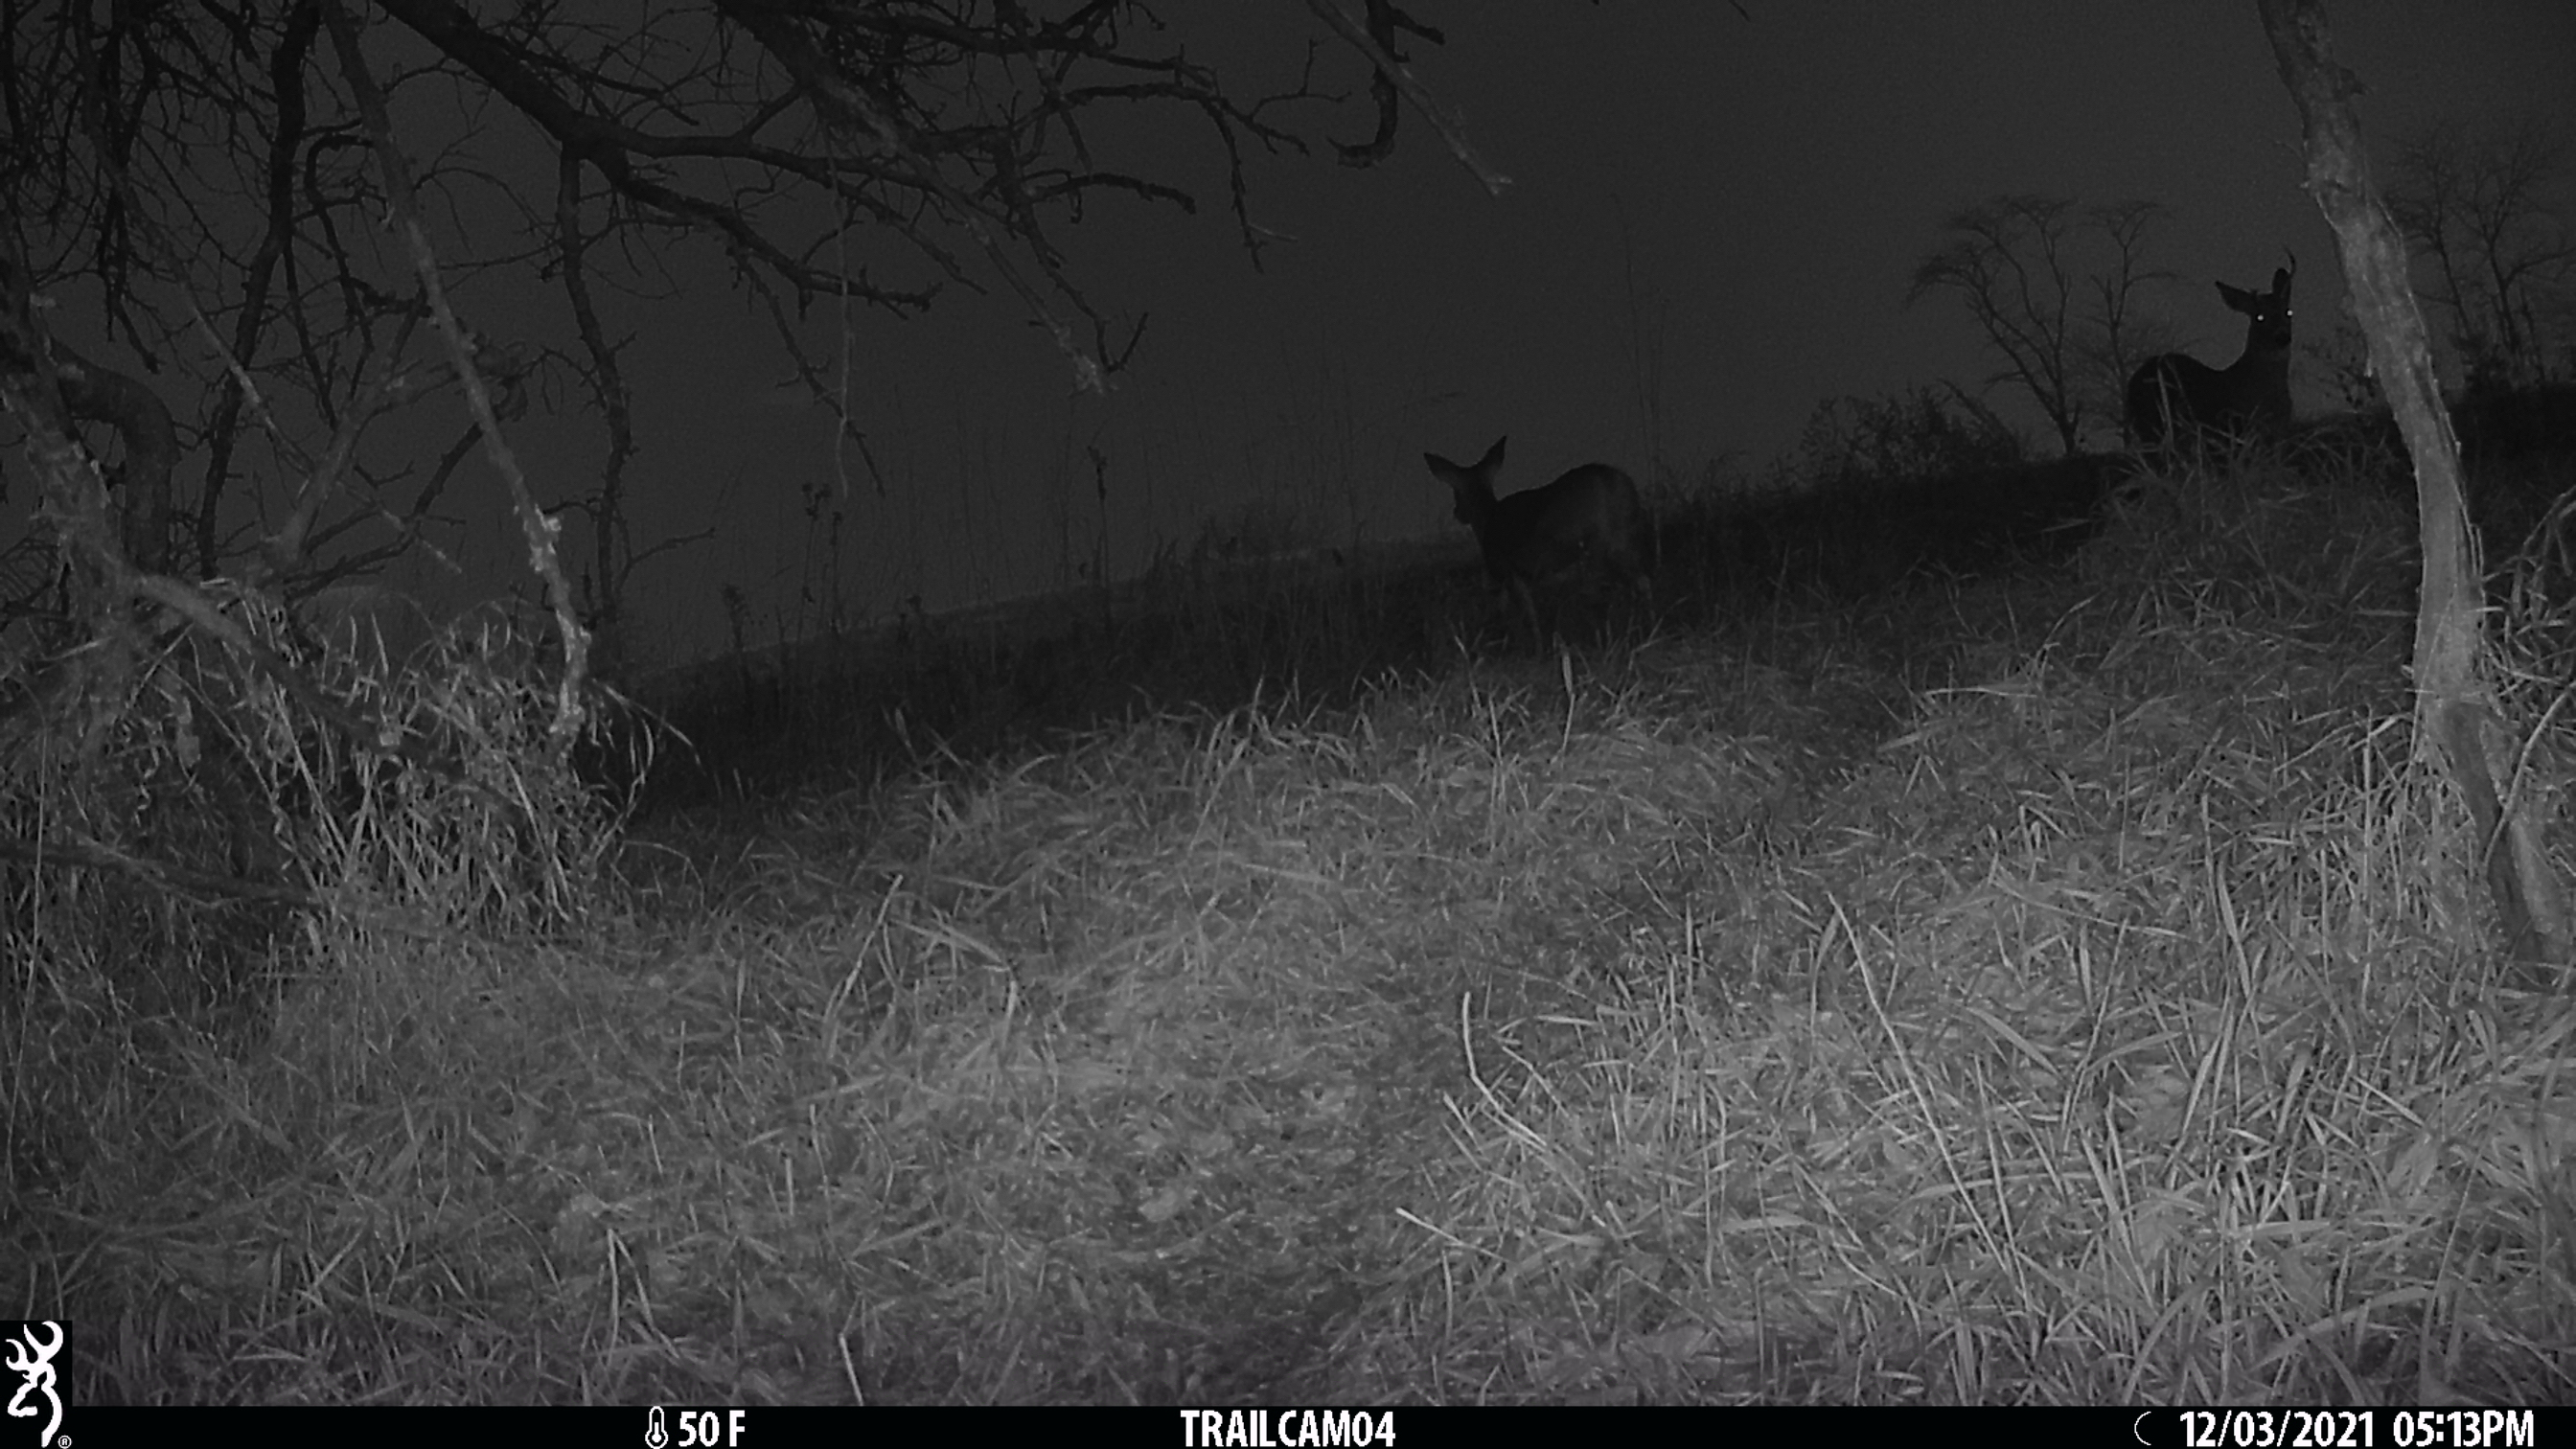Deer: (1419, 428, 1656, 607), (2121, 265, 2312, 455)
